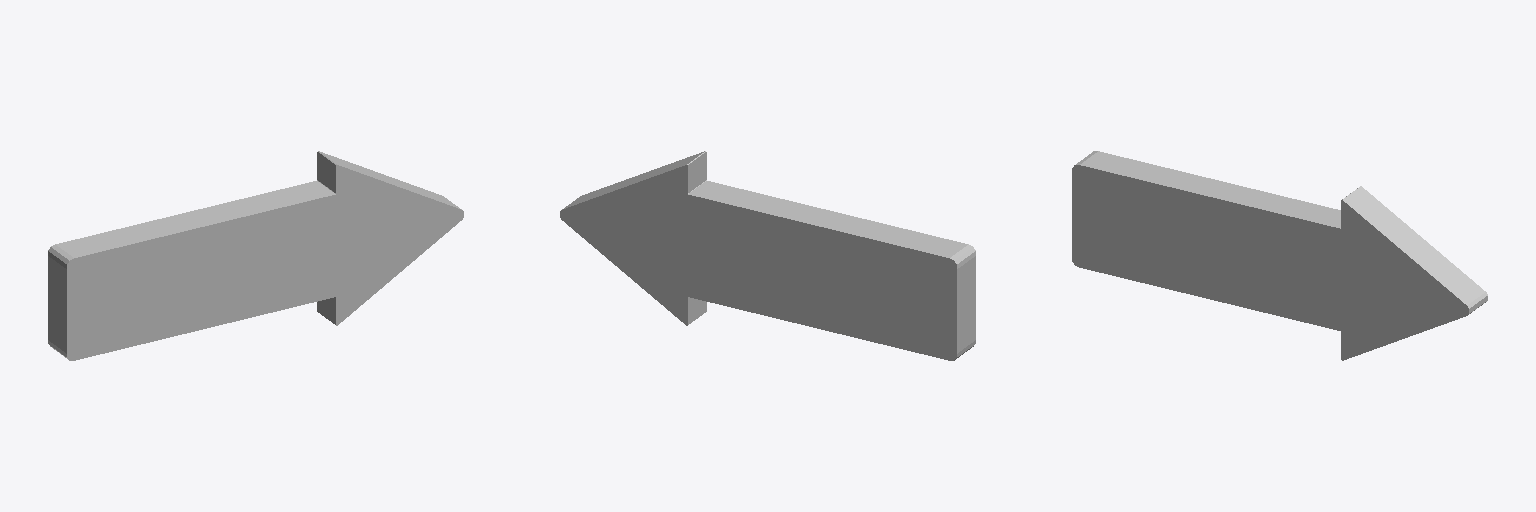
Rendered from arrow.obj.
3 renders of one model, left to right at view 1: azimuth 30°, elevation 25°; view 2: azimuth 150°, elevation 25°; view 3: azimuth 330°, elevation 25°, orthographic.
Visible parts, largest first — view 1: arrow; view 2: arrow; view 3: arrow.
Part boxes in pixels (left/top/right/bottom): arrow: left=48, top=151, right=463, bottom=360; arrow: left=560, top=151, right=975, bottom=360; arrow: left=1072, top=151, right=1487, bottom=360.
Size of the model in its own units: 0.3078 by 0.1193 by 0.0254.